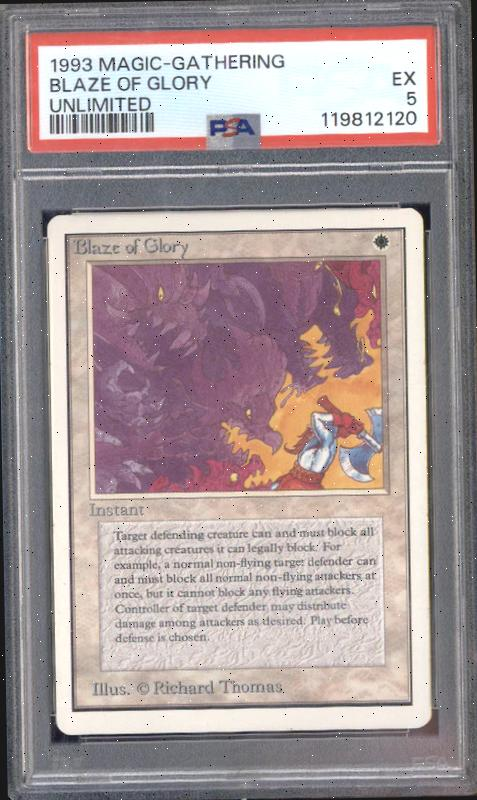card-2UtV: (46, 208, 432, 735)
